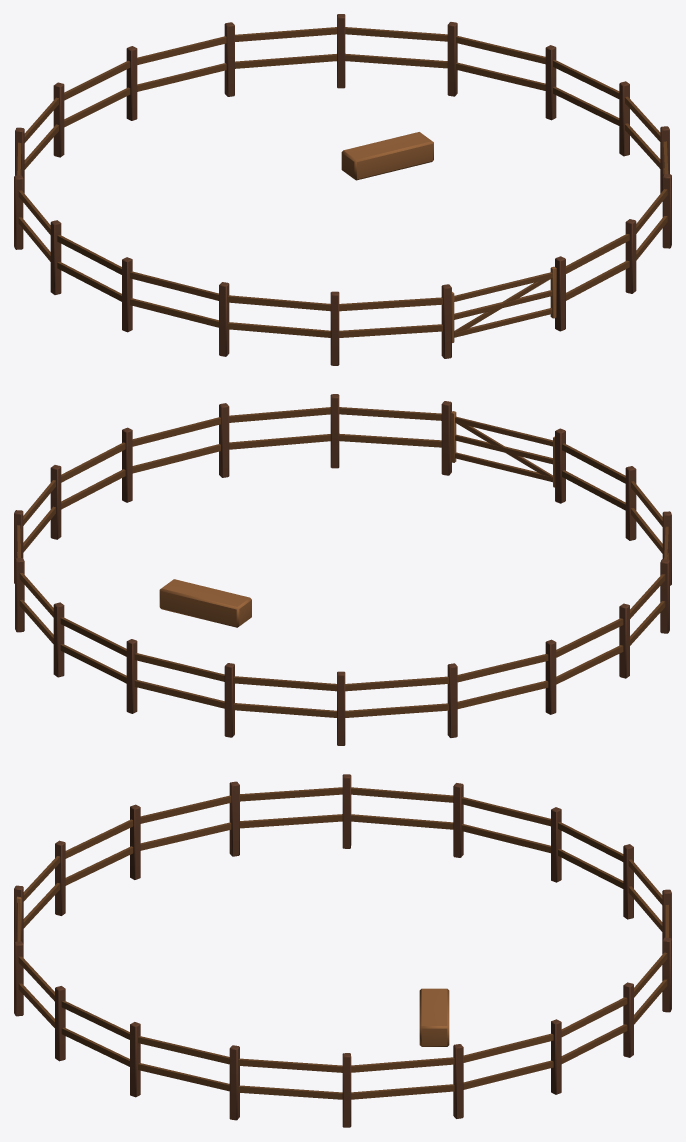
The model's file is sheep-pen.glb.
3 renders of one model, top to bottom at view 1: azimuth 30°, elevation 25°; view 2: azimuth 150°, elevation 25°; view 3: azimuth 270°, elevation 25°, orthographic.
Parts seen in each view (by area): view 1: Sheep pen Wood, Sheep pen Dark wood, Gate; view 2: Sheep pen Wood, Sheep pen Dark wood, Gate; view 3: Sheep pen Wood, Sheep pen Dark wood.
Part boxes in pixels (x1,y1,x2,y2): Sheep pen Wood: (17,27,668,337); Sheep pen Dark wood: (14,14,671,365); Gate: (452,266,556,342); Sheep pen Wood: (17,407,668,717); Sheep pen Dark wood: (14,394,671,745); Gate: (450,411,554,487); Sheep pen Wood: (18,787,668,1099); Sheep pen Dark wood: (14,774,671,1127).
Size of the model in its own units: 10.13 by 1.2 by 9.97.
